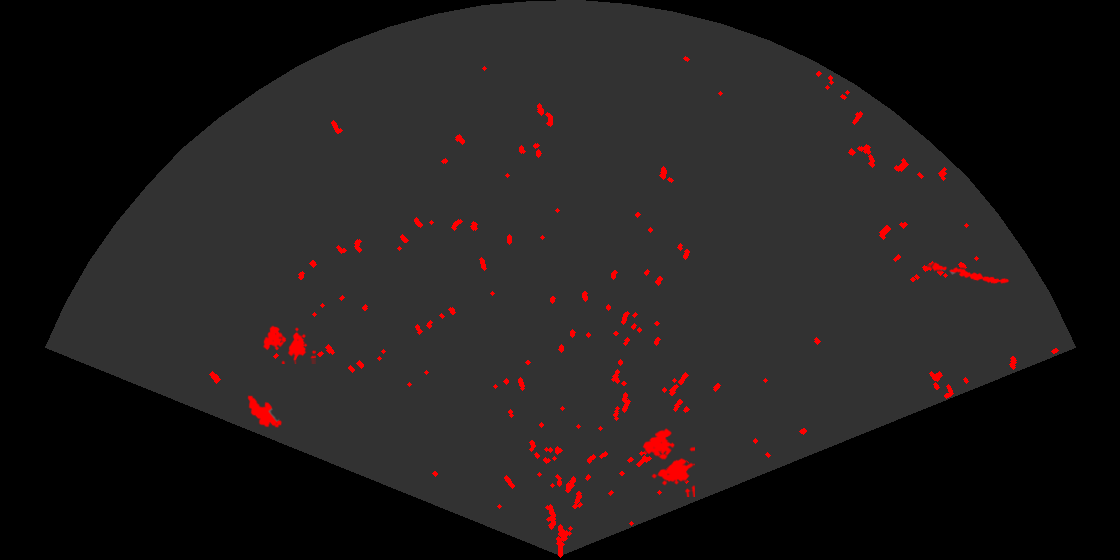AUV: (246, 394, 284, 429)
cage: (641, 427, 695, 497), (261, 324, 316, 364)
chain: (927, 261, 1011, 285)
